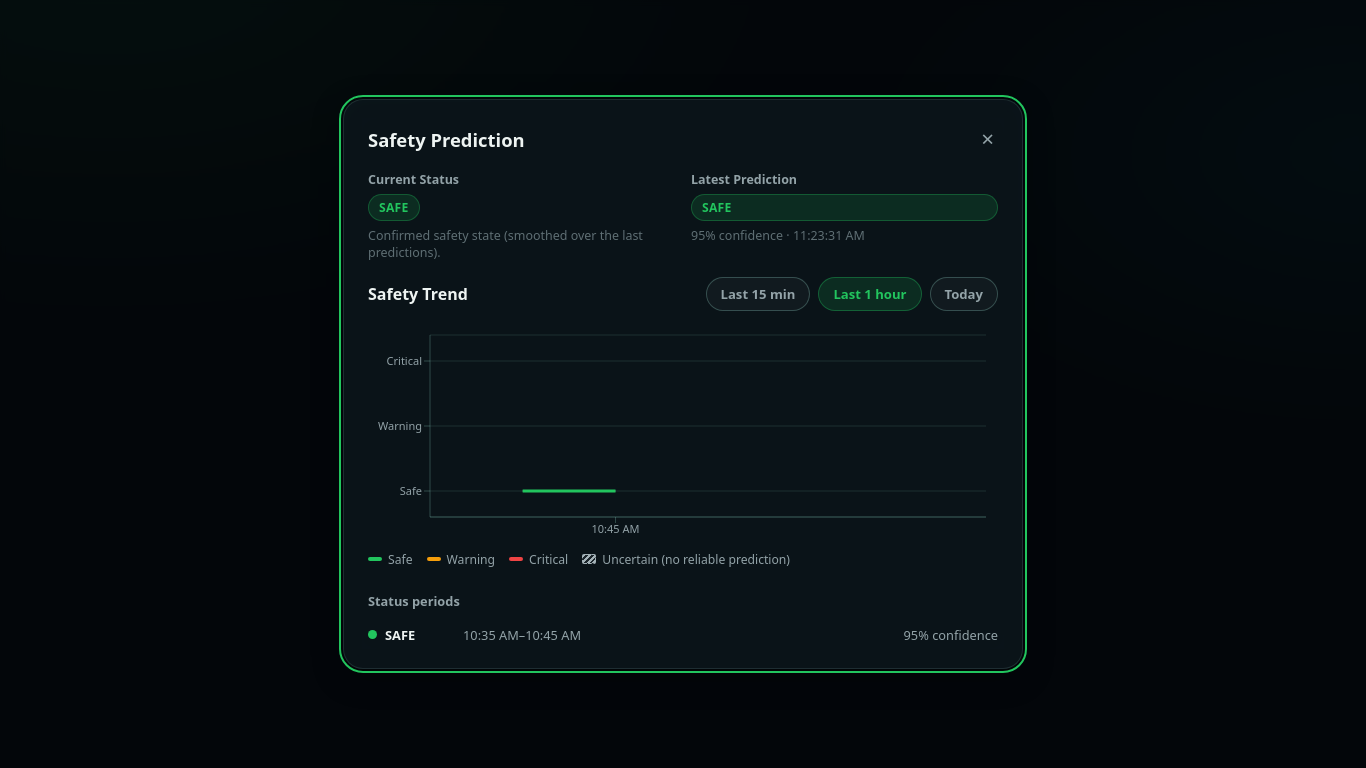
Test case: SafetyPredictionModal › live updates (no refresh) › range pills switch the trend window
Step 1. Click the button "Last 15 min" → coordinates (758, 294), box [706,277,810,311]
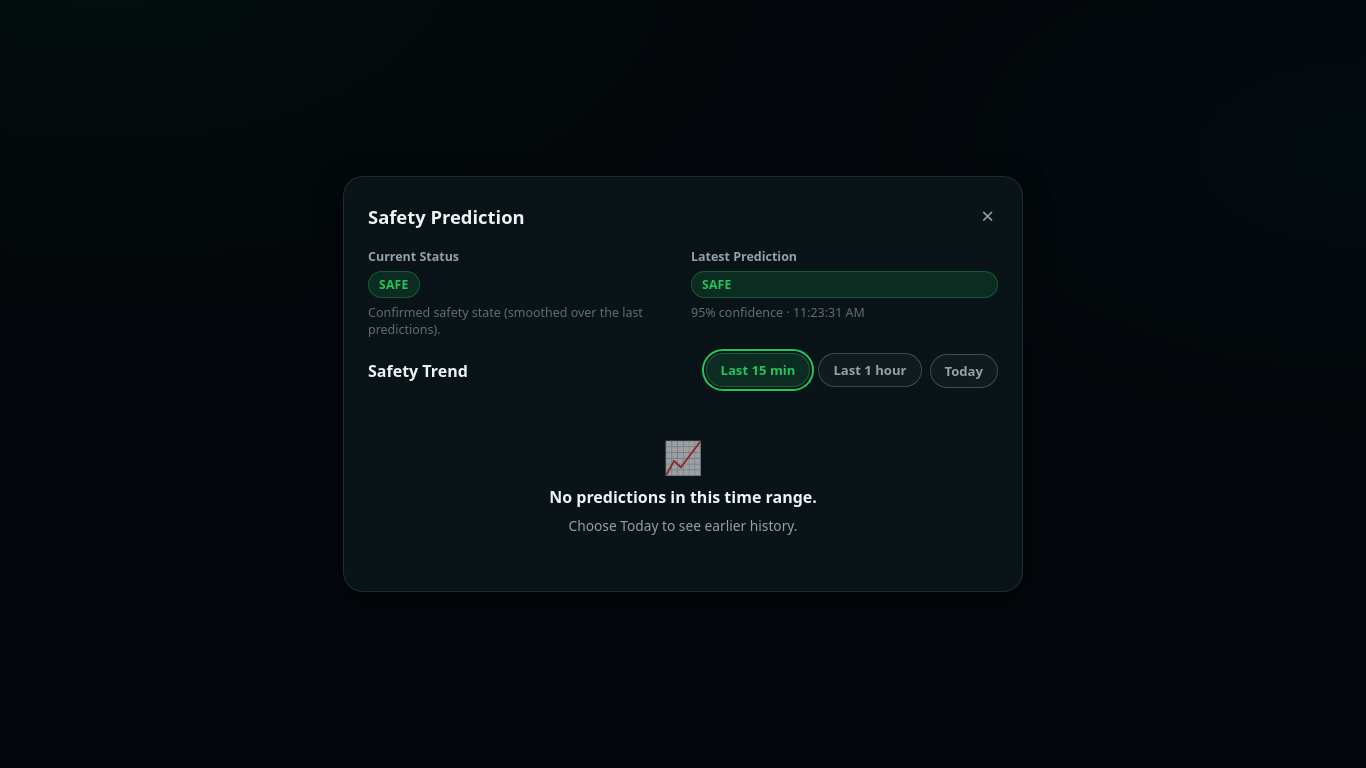
Result: the text "No predictions in this time range." is shown at [549,486,817,508]
Step 2. Click the button "Last 1 hour" → coordinates (870, 370), box [818,353,922,387]
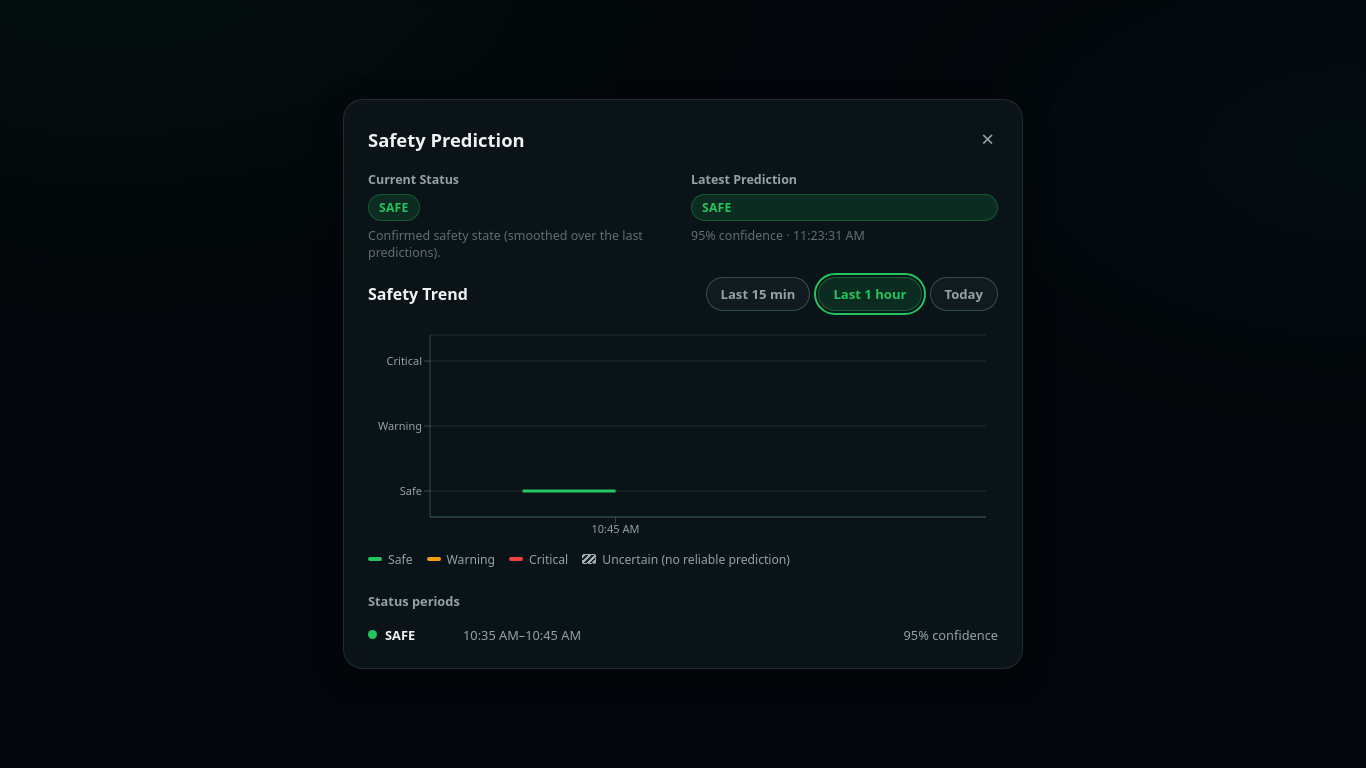
Result: the list named "Safety status periods" is shown at [368,626,998,644]
